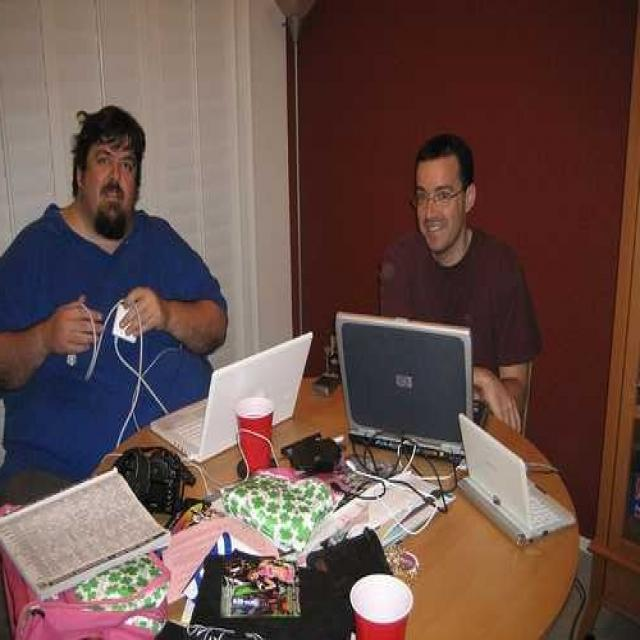laptop: (316, 312, 492, 461), (154, 327, 304, 473), (445, 441, 564, 572)
